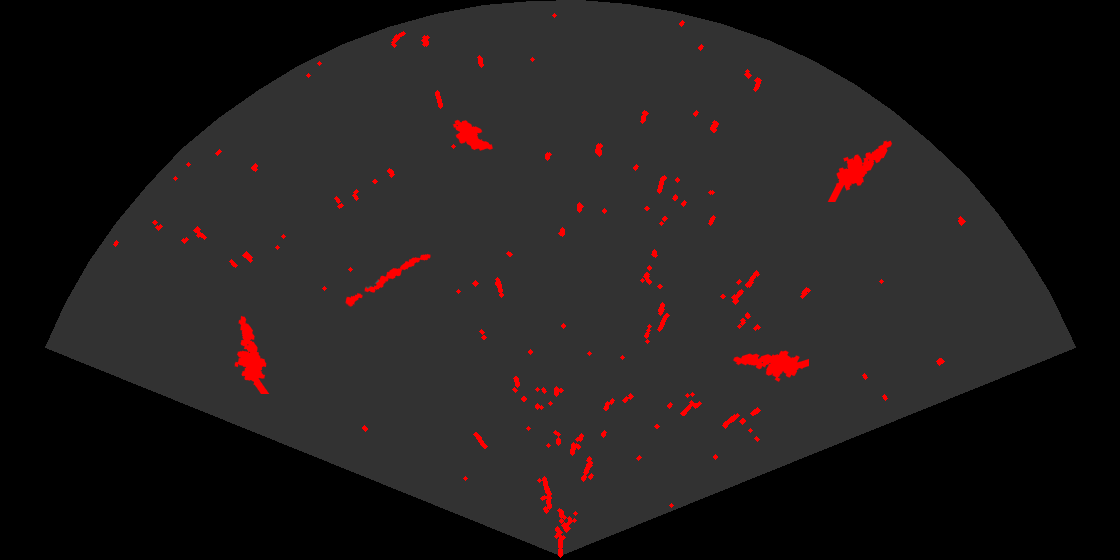AUV: (451, 118, 494, 152)
chain: (344, 252, 432, 308)
frogman: (826, 139, 894, 202), (233, 314, 271, 394), (732, 349, 809, 384)
